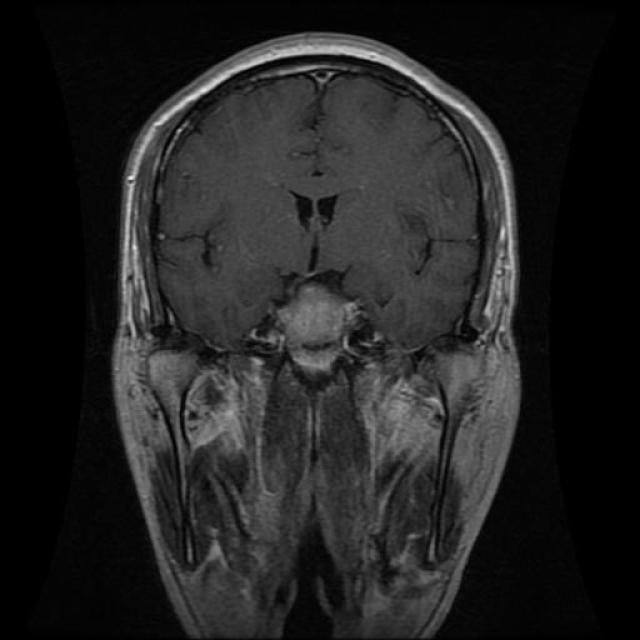pituitary: (264, 280, 351, 386)
